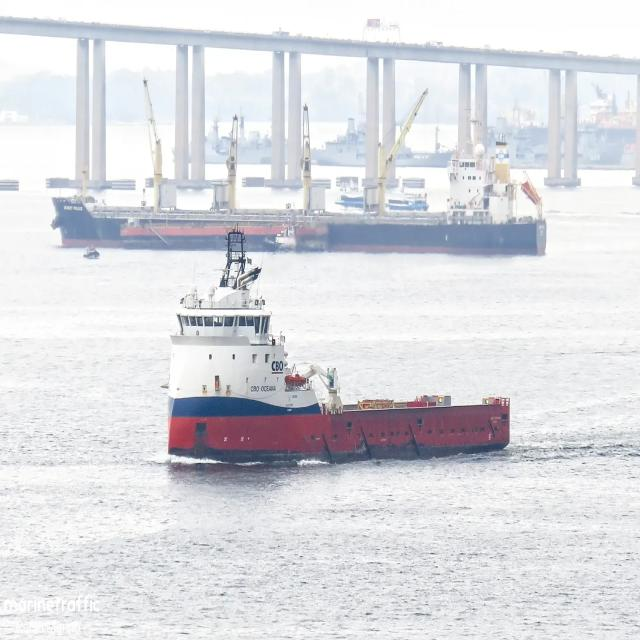Offshore: (166, 226, 509, 462), (242, 403, 247, 409)
Tanker: (51, 80, 546, 254)
Tug: (264, 210, 321, 252)
